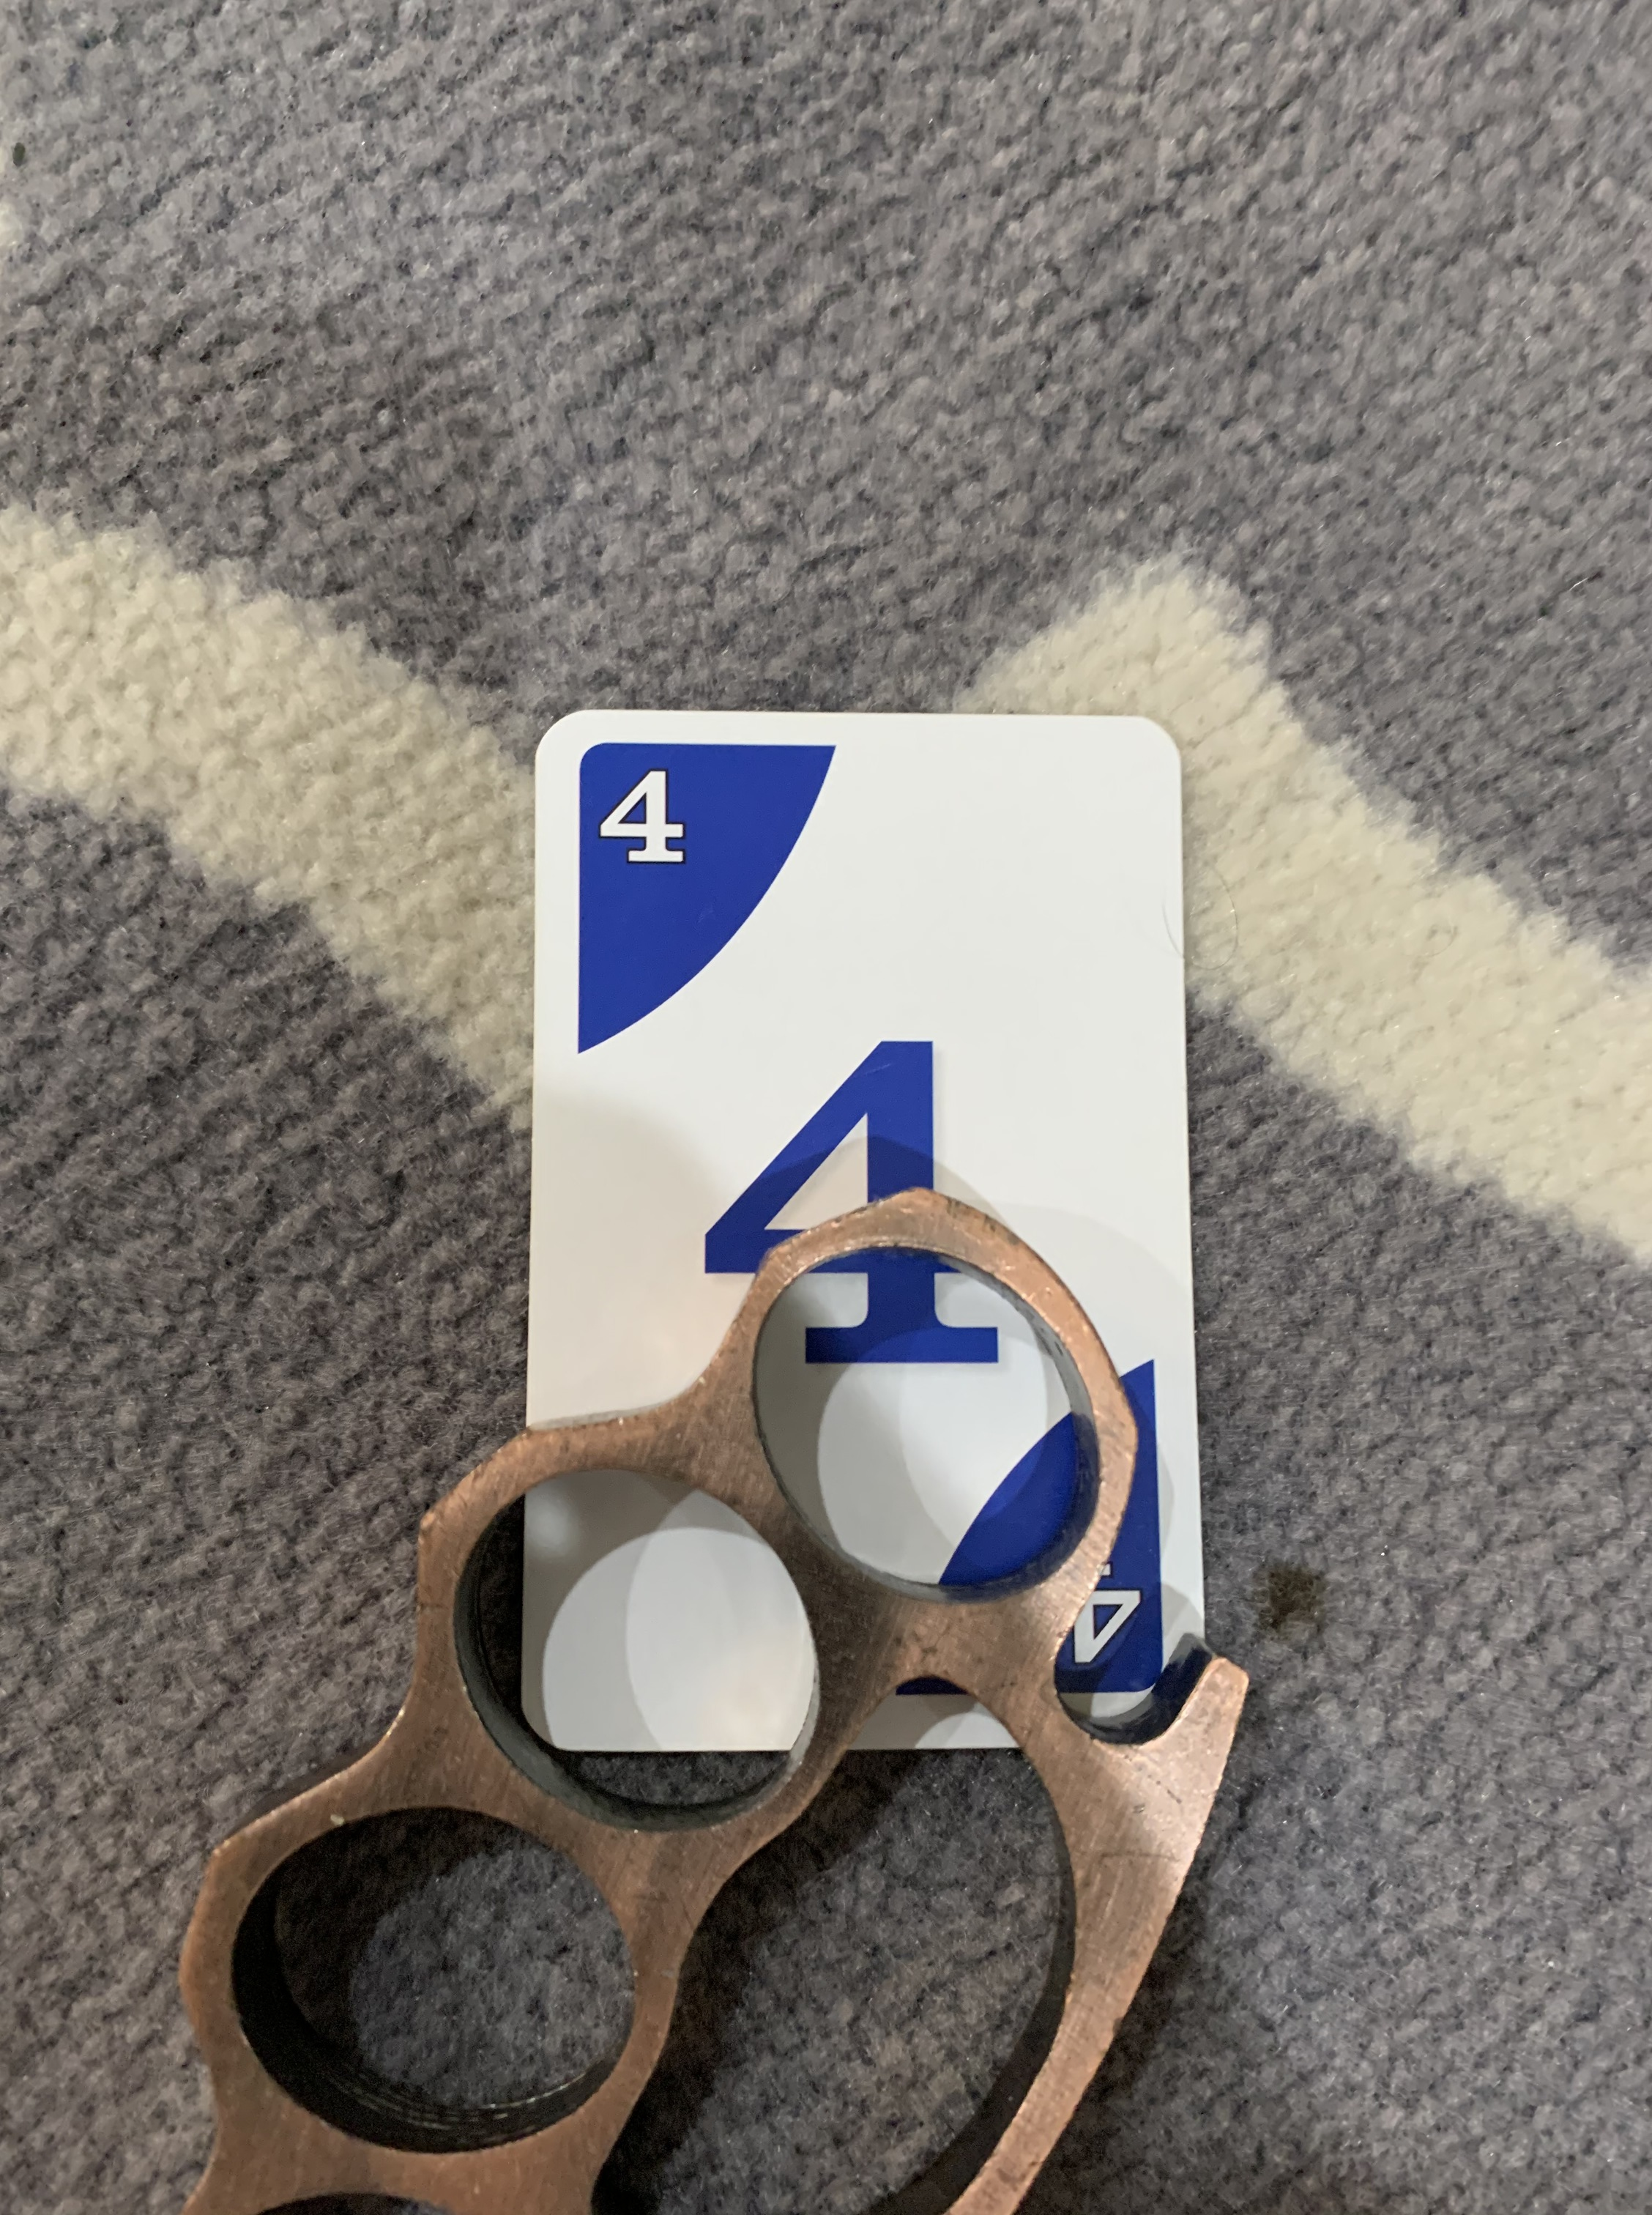four: (491, 679, 1249, 1791)
